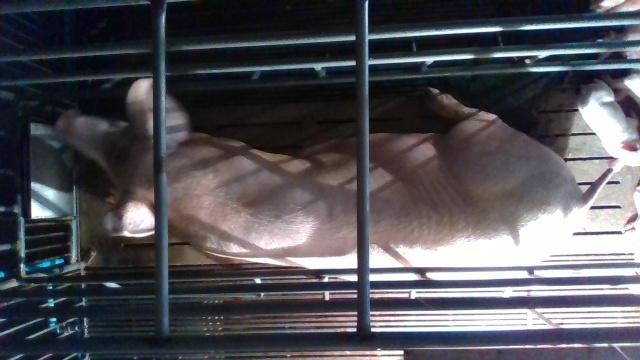piglet: (576, 79, 640, 172)
sow-sit: (52, 76, 613, 282)
